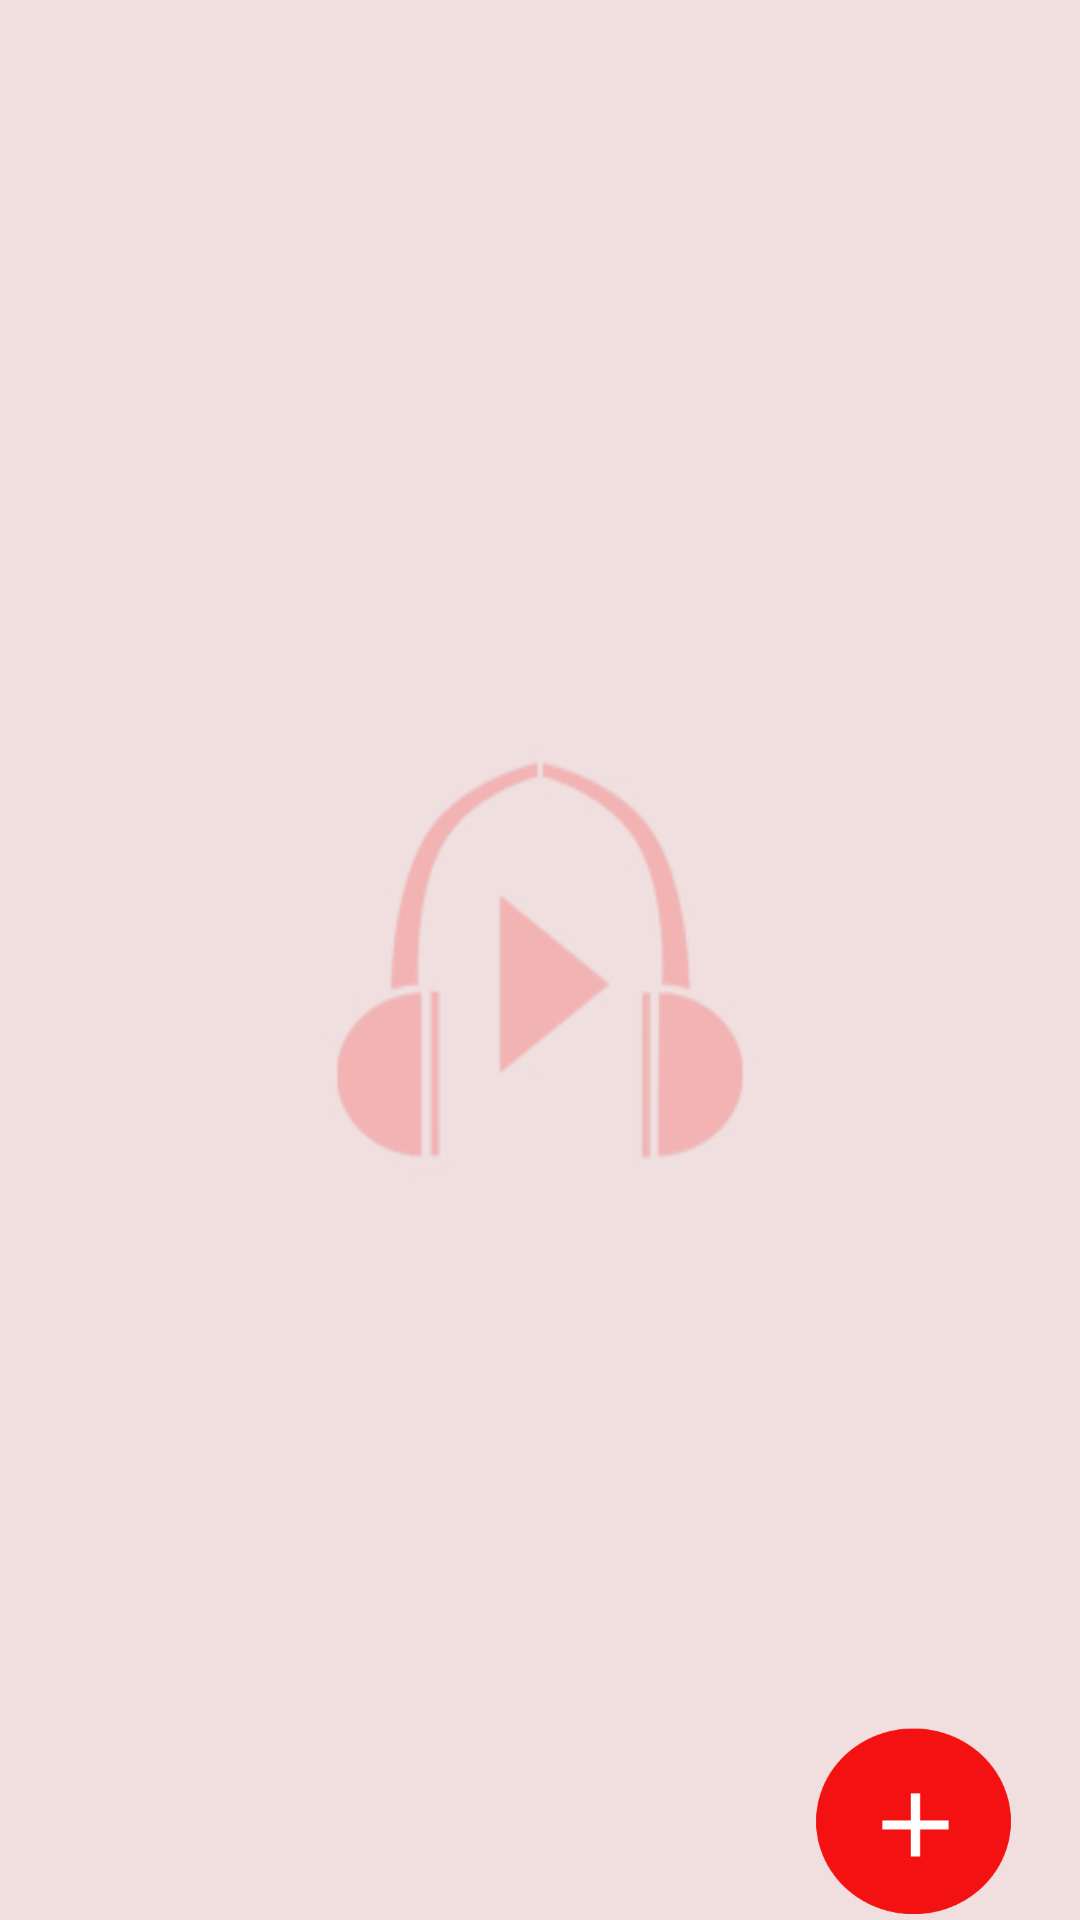

Icons on this 1080px×1920px Android screen, each with the point to tap as point (x, y):
plus: point (913, 1821)
